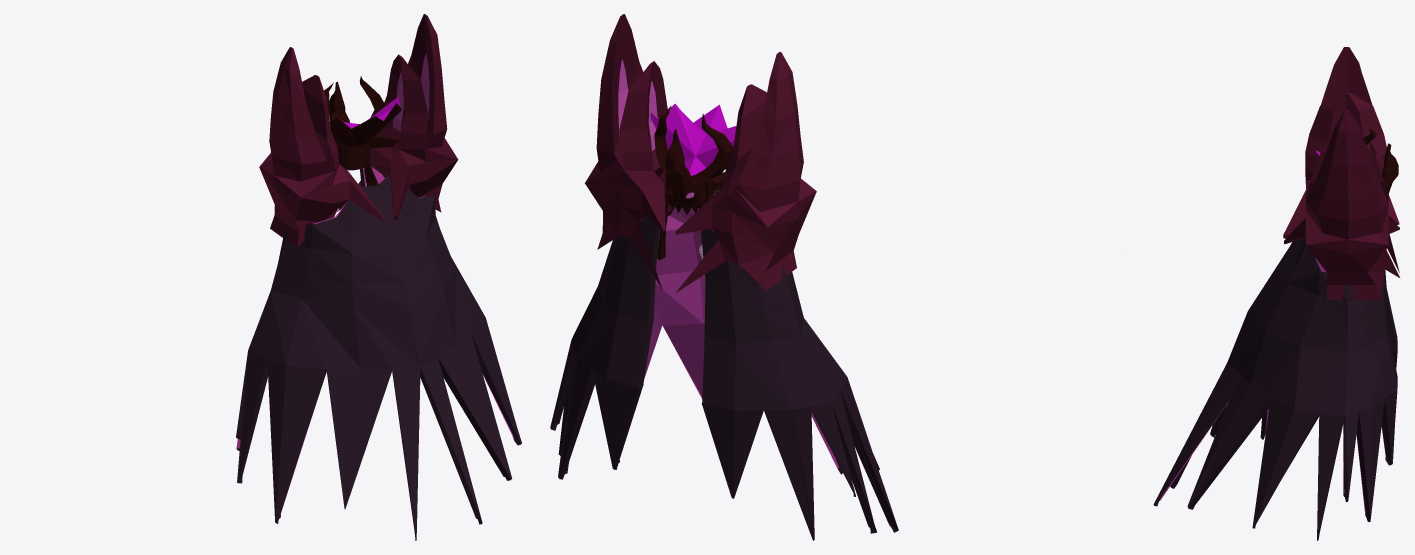
The model's file is mon2.fbx.
The picture shows the model from 3 angles, left to right: view 1: azimuth 30°, elevation 25°; view 2: azimuth 150°, elevation 25°; view 3: azimuth 270°, elevation 25°; orthographic projection. The views are drawn at different scales.
Visible parts, largest first — view 1: pCube7; view 2: pCube7; view 3: pCube7.
Boxes of the visible parts, left/top/right/bottom form: pCube7: left=236, top=14, right=521, bottom=540; pCube7: left=550, top=14, right=898, bottom=540; pCube7: left=1153, top=47, right=1399, bottom=540.
Bounding box in the file's own units: 18.08 × 15.31 × 8.07.
